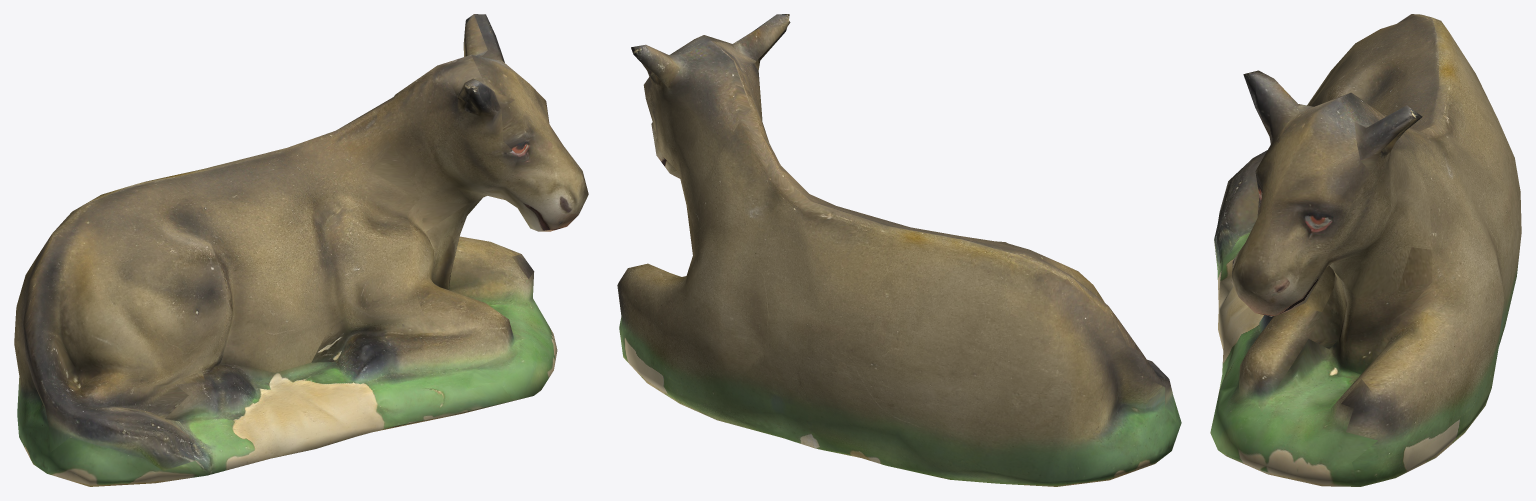
Rendered from burroBaixRes.obj.
3 views of the same model, side by side, from view 1: azimuth 30°, elevation 25°; view 2: azimuth 150°, elevation 25°; view 3: azimuth 270°, elevation 25° (orthographic). The views are drawn at different scales.
Visible parts, largest first — view 1: Burro_LP2; view 2: Burro_LP2; view 3: Burro_LP2.
Part boxes in pixels (box(x1,y1,x2,y2)): Burro_LP2: box(14, 14, 588, 486); Burro_LP2: box(617, 14, 1181, 486); Burro_LP2: box(1210, 14, 1521, 486).
Size of the model in its own units: 0.1869 by 0.1092 by 0.0853.
1 material, 1 textured.
